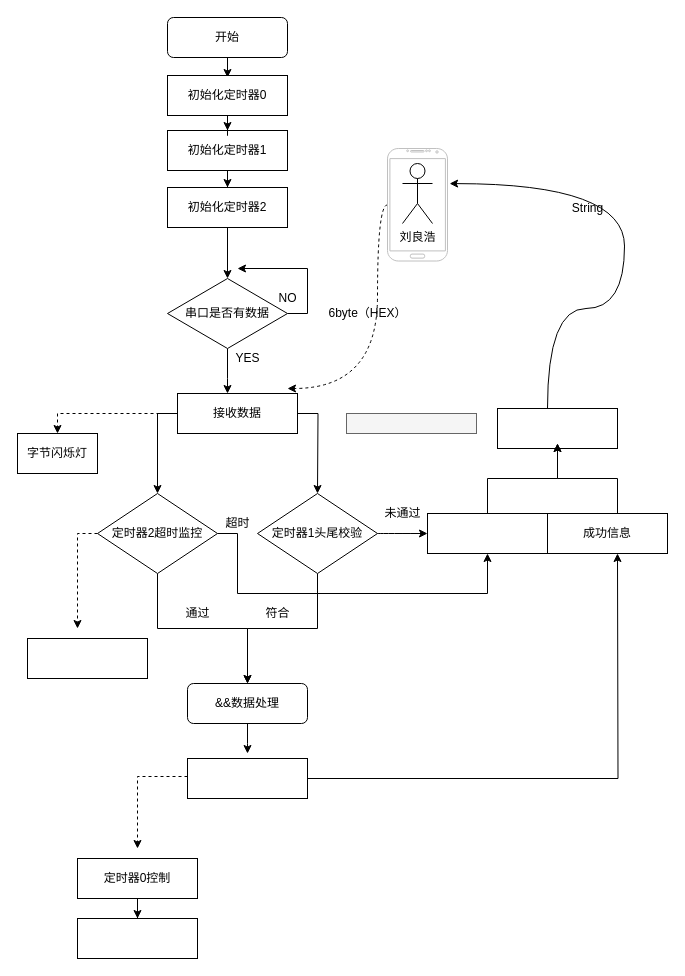
This 685x976 diagram has some shape labels left out. Here are the shapes that lost their labels. From the top down, the centre of each, then its label:
the point at 411,423: 系统运行流程图
the point at 557,428: || 发送数据
the point at 487,533: || 失败信息
the point at 87,658: 监控灯
the point at 247,778: 占空比赋值
the point at 137,938: 4路LED显示
